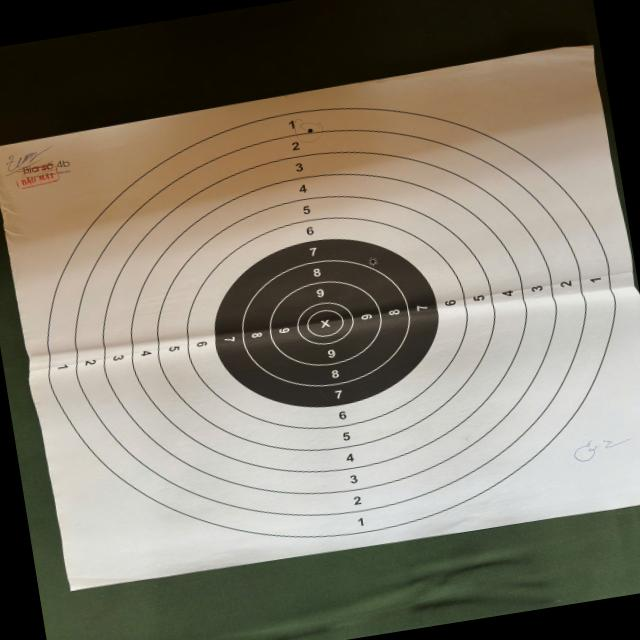bullet: (368, 259, 379, 267), (307, 127, 314, 135)
target: (0, 47, 640, 589)
